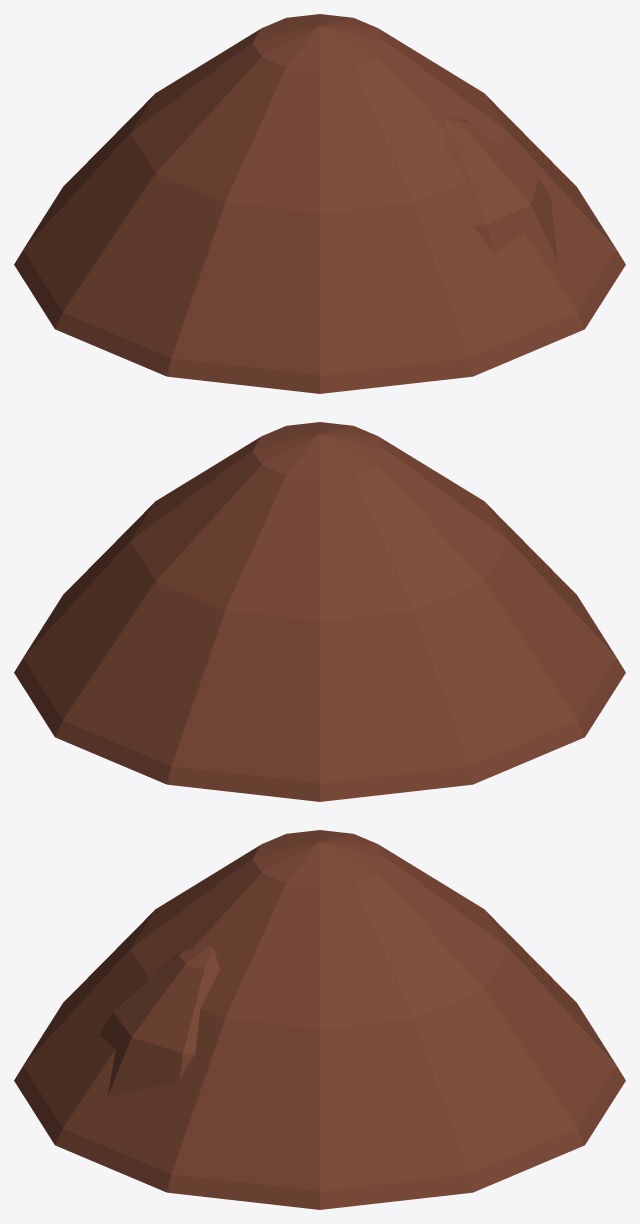
File: pile_ore_a.glb
3 views of the same model, one above another, from view 1: azimuth 30°, elevation 25°; view 2: azimuth 150°, elevation 25°; view 3: azimuth 270°, elevation 25° (orthographic).
Visible parts, largest first — view 1: pile_ore_a; view 2: pile_ore_a; view 3: pile_ore_a.
Boxes of the visible parts, x1,y1,x2,y2 form: pile_ore_a: [14, 14, 625, 393]; pile_ore_a: [14, 422, 625, 801]; pile_ore_a: [14, 830, 625, 1209].
Size of the model in its own units: 13 by 5.6 by 13.
